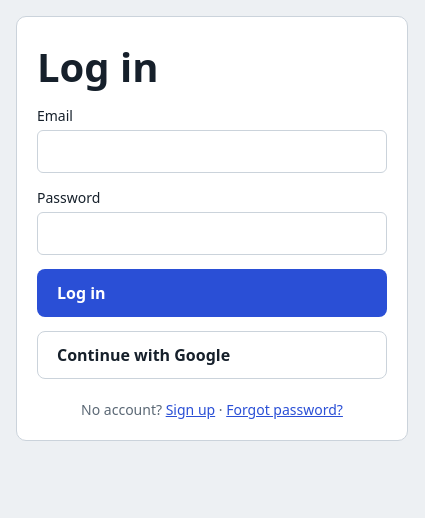
it: LoginPage › shows an inline error for an invalid email
Type "not-an-email" into the field labelled "Email" at point(212, 152), box [37,130,387,173]
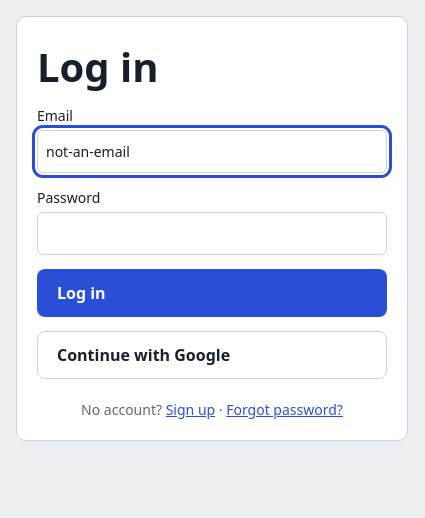
Type "whatever" into the password field labelled "Password" at point(212, 234), box [37,212,387,255]
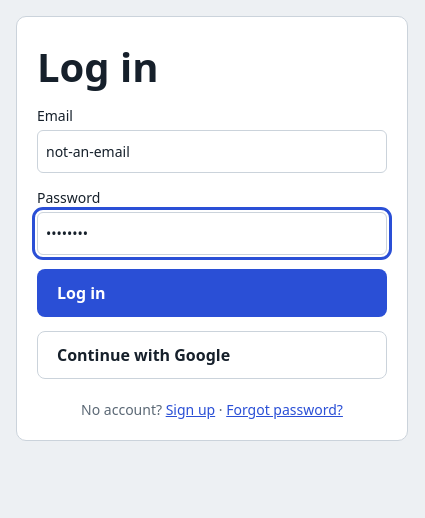
Click the button "Log in" at point(81, 293), box [37,269,387,317]
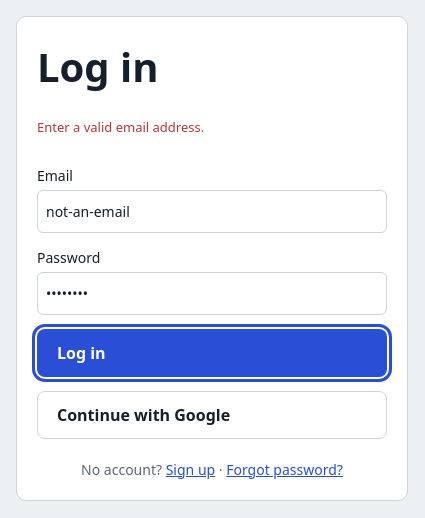
Now the text "Enter a valid email address." is shown, box [37,118,204,136]
